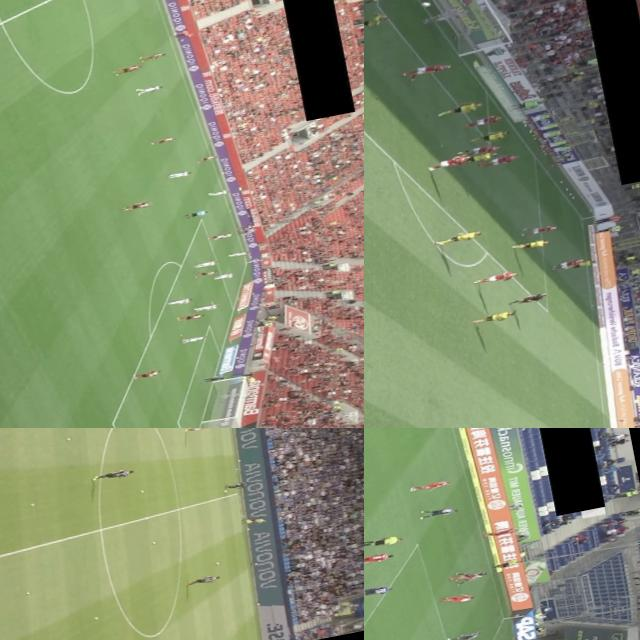ball: (410, 0, 437, 10), (22, 590, 32, 598), (62, 435, 72, 442), (513, 528, 524, 534), (27, 502, 36, 508), (148, 540, 156, 546), (214, 561, 221, 566), (92, 616, 100, 620), (138, 489, 144, 494), (221, 490, 227, 492), (247, 226, 250, 228)
player: (428, 228, 484, 248), (470, 268, 523, 289), (418, 6, 473, 26), (402, 477, 452, 496), (403, 60, 452, 78), (438, 101, 484, 118), (470, 310, 518, 326), (429, 154, 475, 170), (90, 466, 136, 482), (510, 236, 550, 254), (364, 580, 395, 603), (457, 144, 500, 160), (522, 222, 560, 240), (418, 504, 458, 521), (559, 257, 601, 273), (464, 114, 506, 130), (472, 130, 512, 144), (482, 154, 519, 169), (442, 592, 476, 608), (364, 550, 393, 568), (364, 12, 391, 31), (184, 573, 220, 587), (460, 152, 498, 165), (458, 568, 488, 584), (484, 526, 518, 540), (135, 50, 168, 64), (554, 257, 589, 270), (122, 200, 154, 214), (447, 628, 484, 640), (450, 570, 480, 584), (192, 266, 219, 280), (176, 312, 207, 324), (136, 84, 166, 96), (132, 370, 162, 382), (165, 169, 192, 182), (151, 134, 178, 146), (192, 303, 220, 314), (112, 66, 142, 76), (192, 259, 218, 270), (180, 428, 214, 436), (224, 480, 251, 490), (196, 154, 222, 164), (204, 188, 230, 198), (202, 374, 228, 384), (167, 297, 190, 307), (182, 335, 205, 345), (228, 250, 248, 260), (212, 272, 235, 280), (214, 232, 234, 240), (208, 232, 227, 240), (364, 0, 397, 4), (238, 224, 255, 231)
